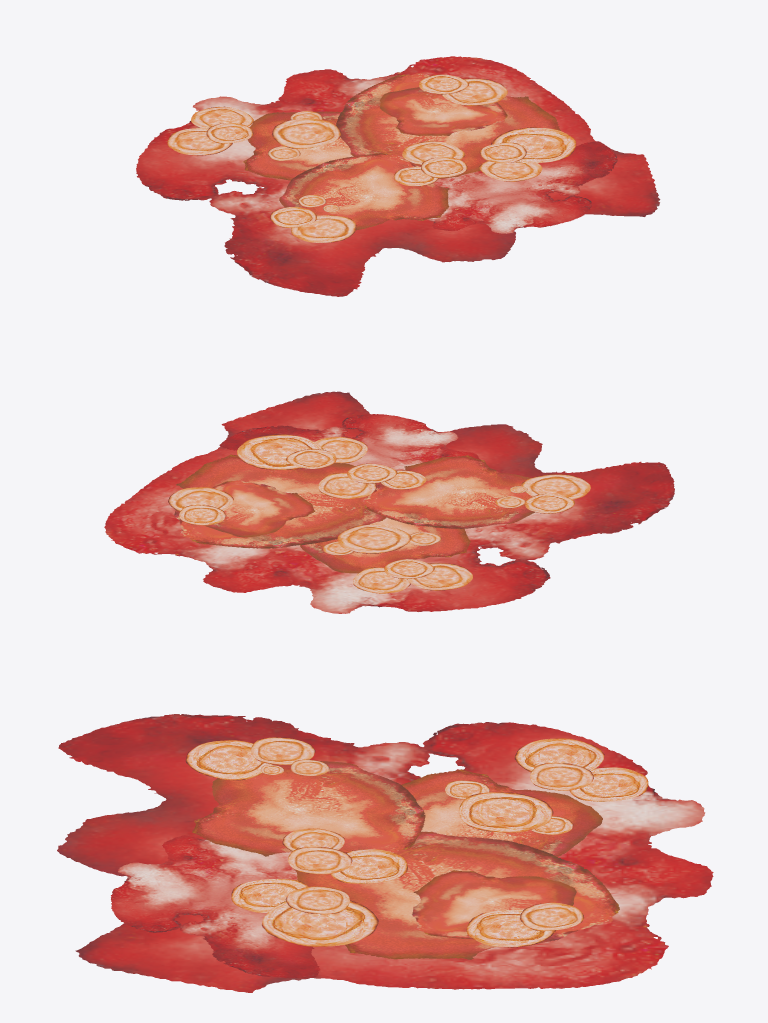
File: CoralWall.fbx
The picture shows the model from 3 angles, top to bottom: view 1: azimuth 30°, elevation 25°; view 2: azimuth 150°, elevation 25°; view 3: azimuth 270°, elevation 25°; orthographic projection. The views are drawn at different scales.
Visible parts, largest first — view 1: Red Coral; view 2: Red Coral; view 3: Red Coral.
Part boxes in pixels (x1,y1,x2,y2): Red Coral: (136, 56, 660, 296); Red Coral: (104, 391, 674, 613); Red Coral: (57, 714, 713, 992).
Size of the model in its own units: 8 by 0.24 by 8.
